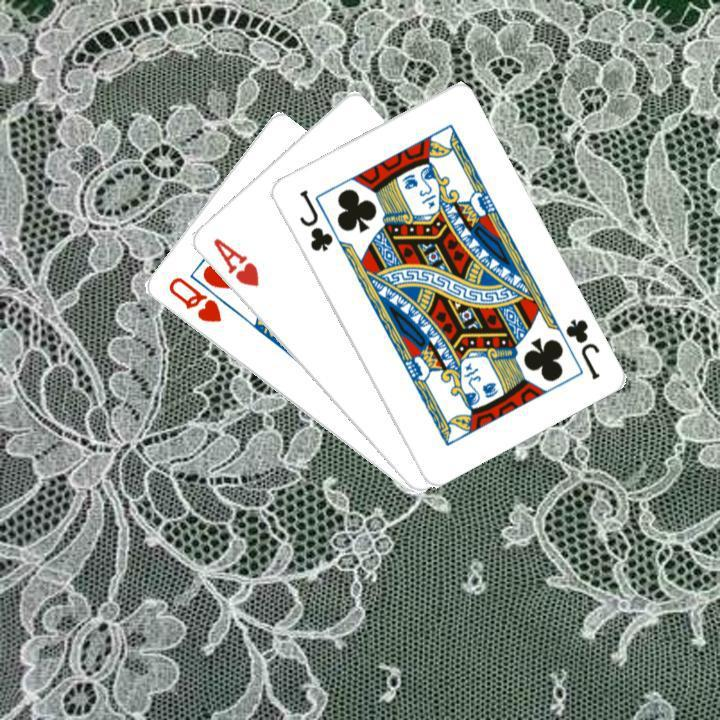A: (208, 233, 261, 289)
J: (560, 314, 602, 382), (294, 185, 335, 254)
Q: (163, 272, 223, 325)
